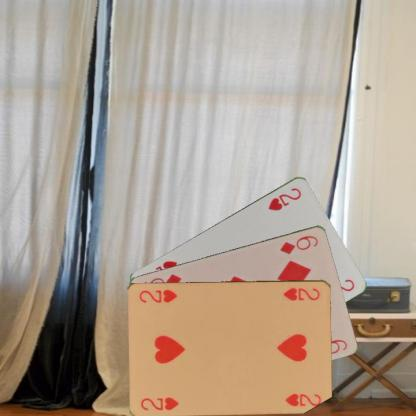2h: (266, 184, 303, 212), (281, 284, 321, 302), (139, 394, 180, 411)
6d: (276, 233, 320, 256)
